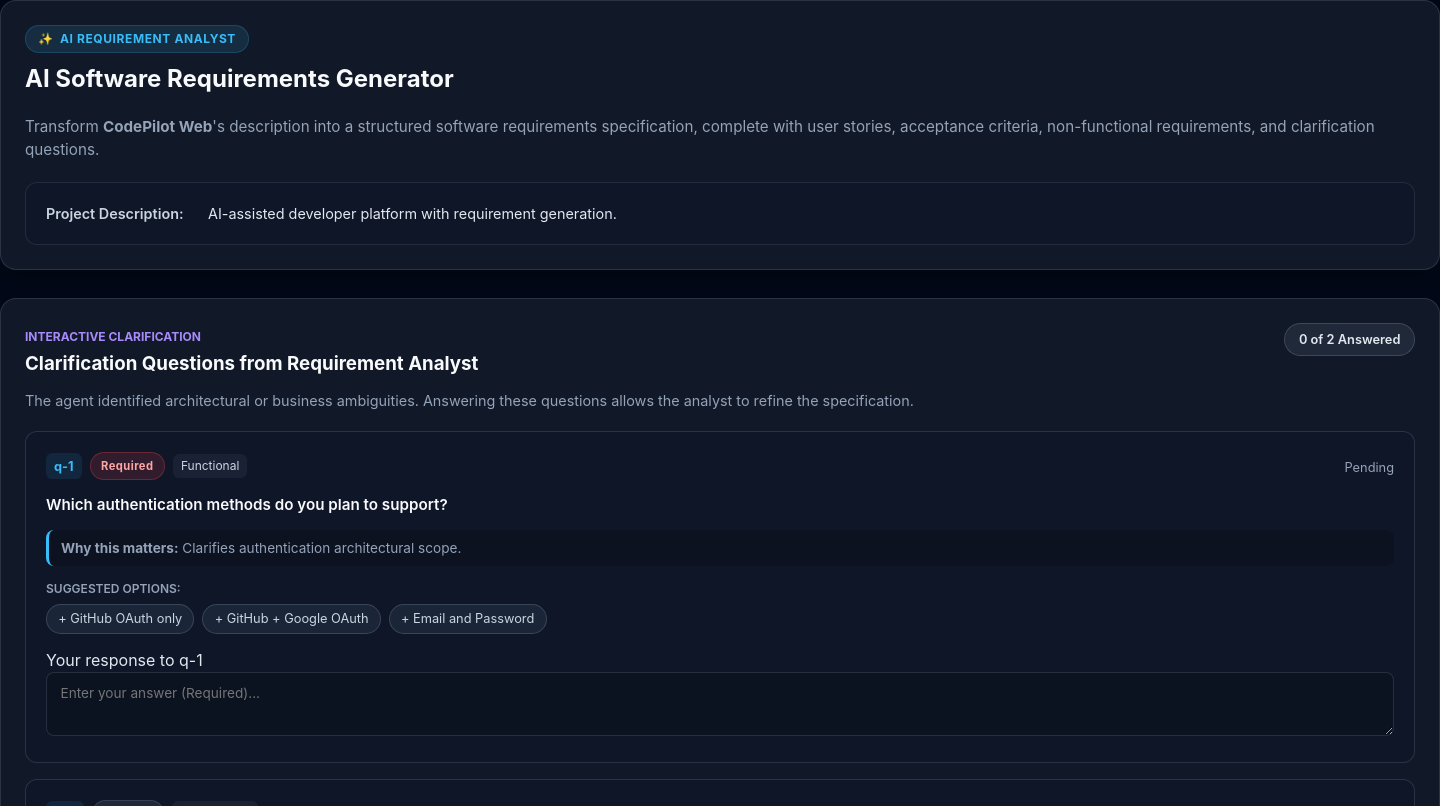
Scenario: RequirementGenerationPanel (S3.7) › 6. Allows selecting suggested answer options and typing custom text
This screenshot has width=1440, height=806.
// Click suggested option chip
Click the button "+ GitHub + Google OAuth".
click(292, 619)  # box left=202, top=604, right=381, bottom=634
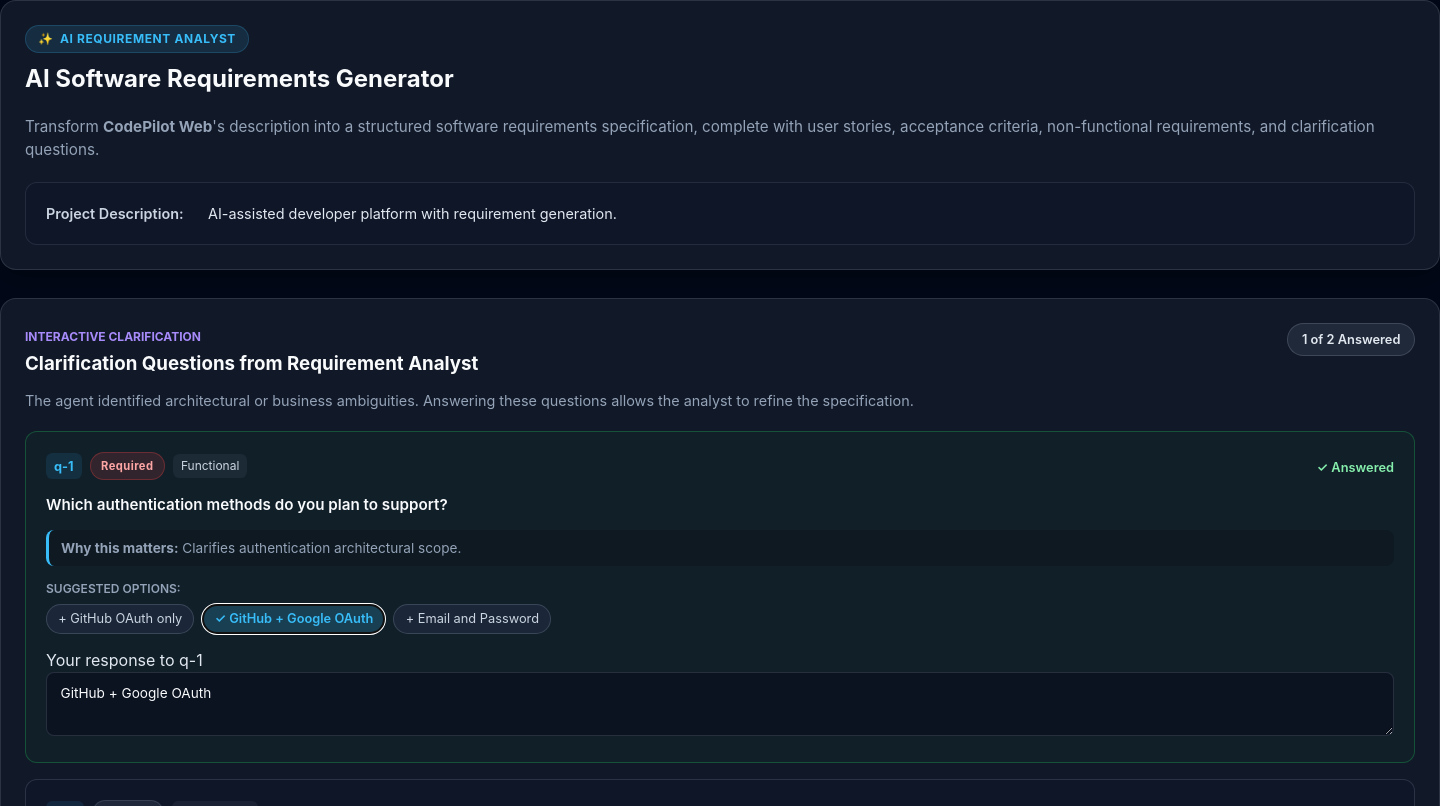
Expected: the text box labelled "Your response to q-1" holds "GitHub + Google OAuth"
// Type additional custom notes
Type " with strict scopes" into the text box labelled "Your response to q-1".
click(720, 704); type(" with strict scopes")  # box left=46, top=672, right=1394, bottom=736
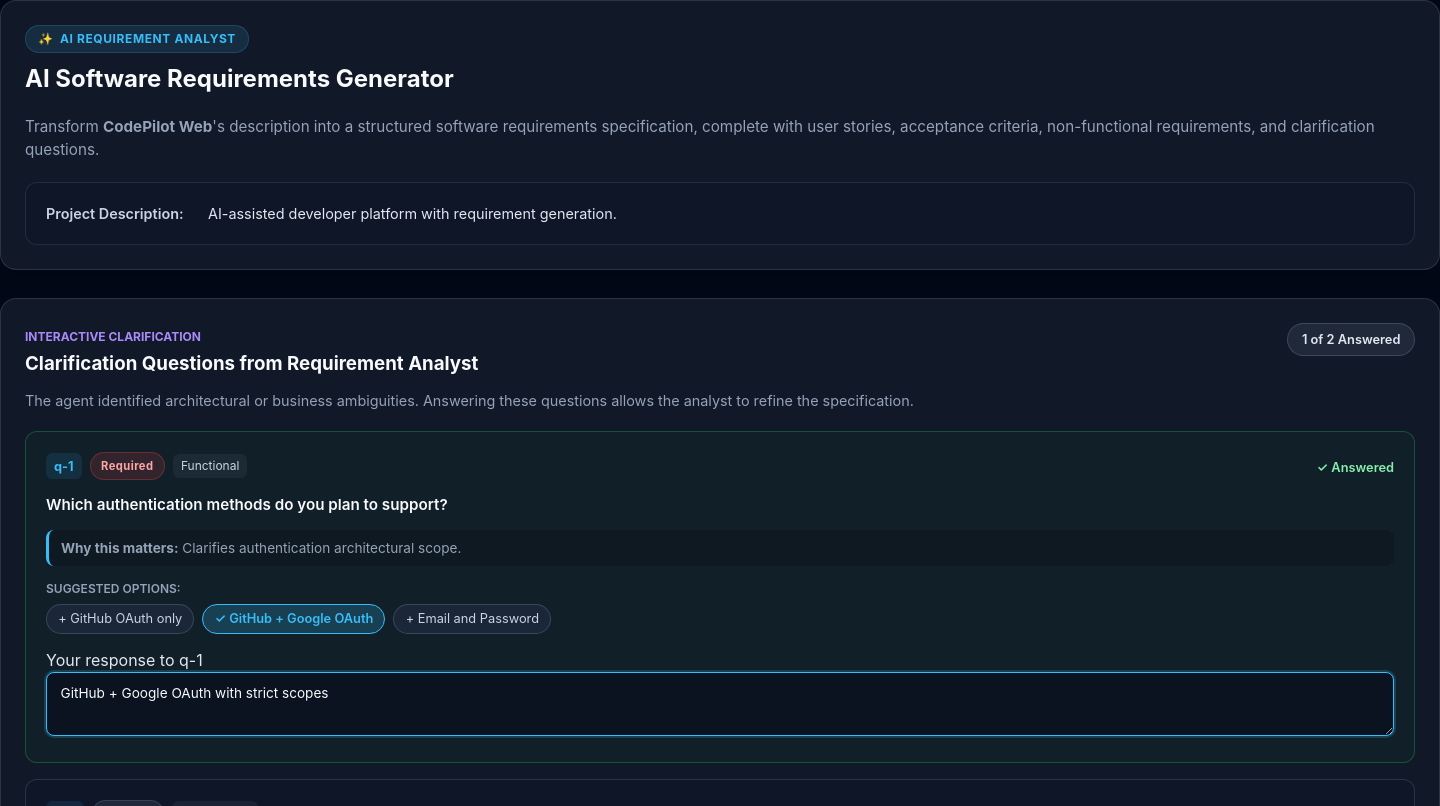
Expected: the text box labelled "Your response to q-1" holds "GitHub + Google OAuth with strict scopes", left=46, top=672, right=1394, bottom=736
